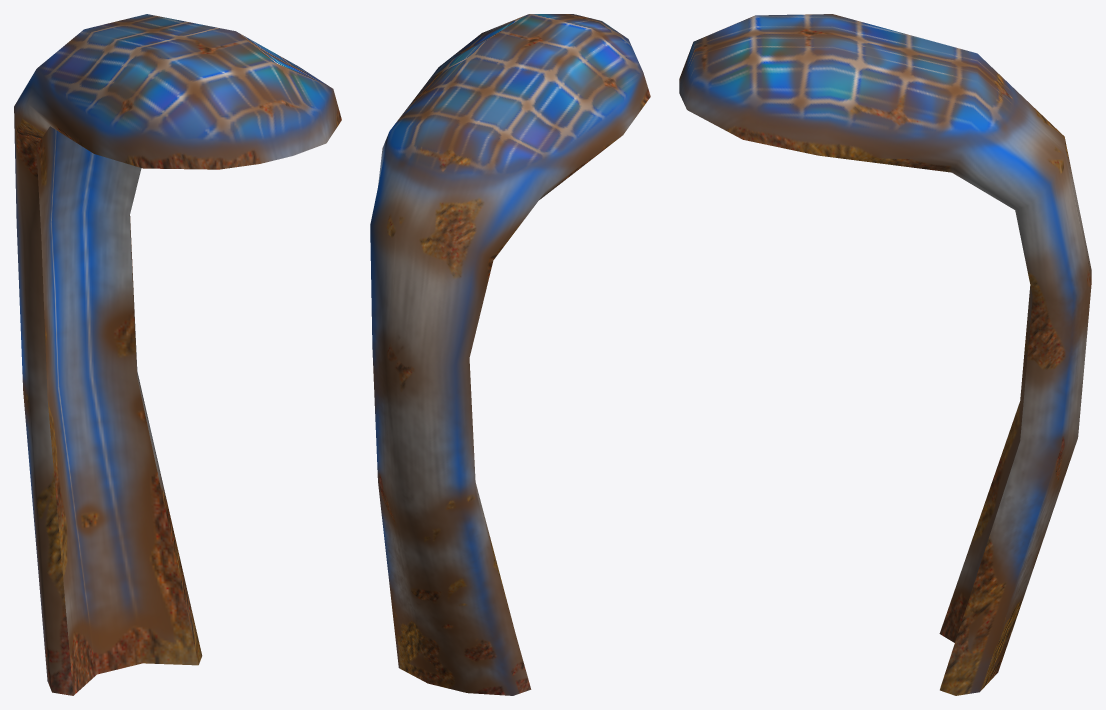
The model's file is LightPole.FBX.
3 views of the same model, side by side, from view 1: azimuth 30°, elevation 25°; view 2: azimuth 150°, elevation 25°; view 3: azimuth 270°, elevation 25° (orthographic). The views are drawn at different scales.
Parts seen in each view (by area): view 1: Box001; view 2: Box001; view 3: Box001.
Boxes of the visible parts, x1,y1,x2,y2 form: Box001: [14, 14, 341, 695]; Box001: [370, 14, 650, 695]; Box001: [679, 14, 1091, 695].
Size of the model in its own units: 135 by 407 by 241.
